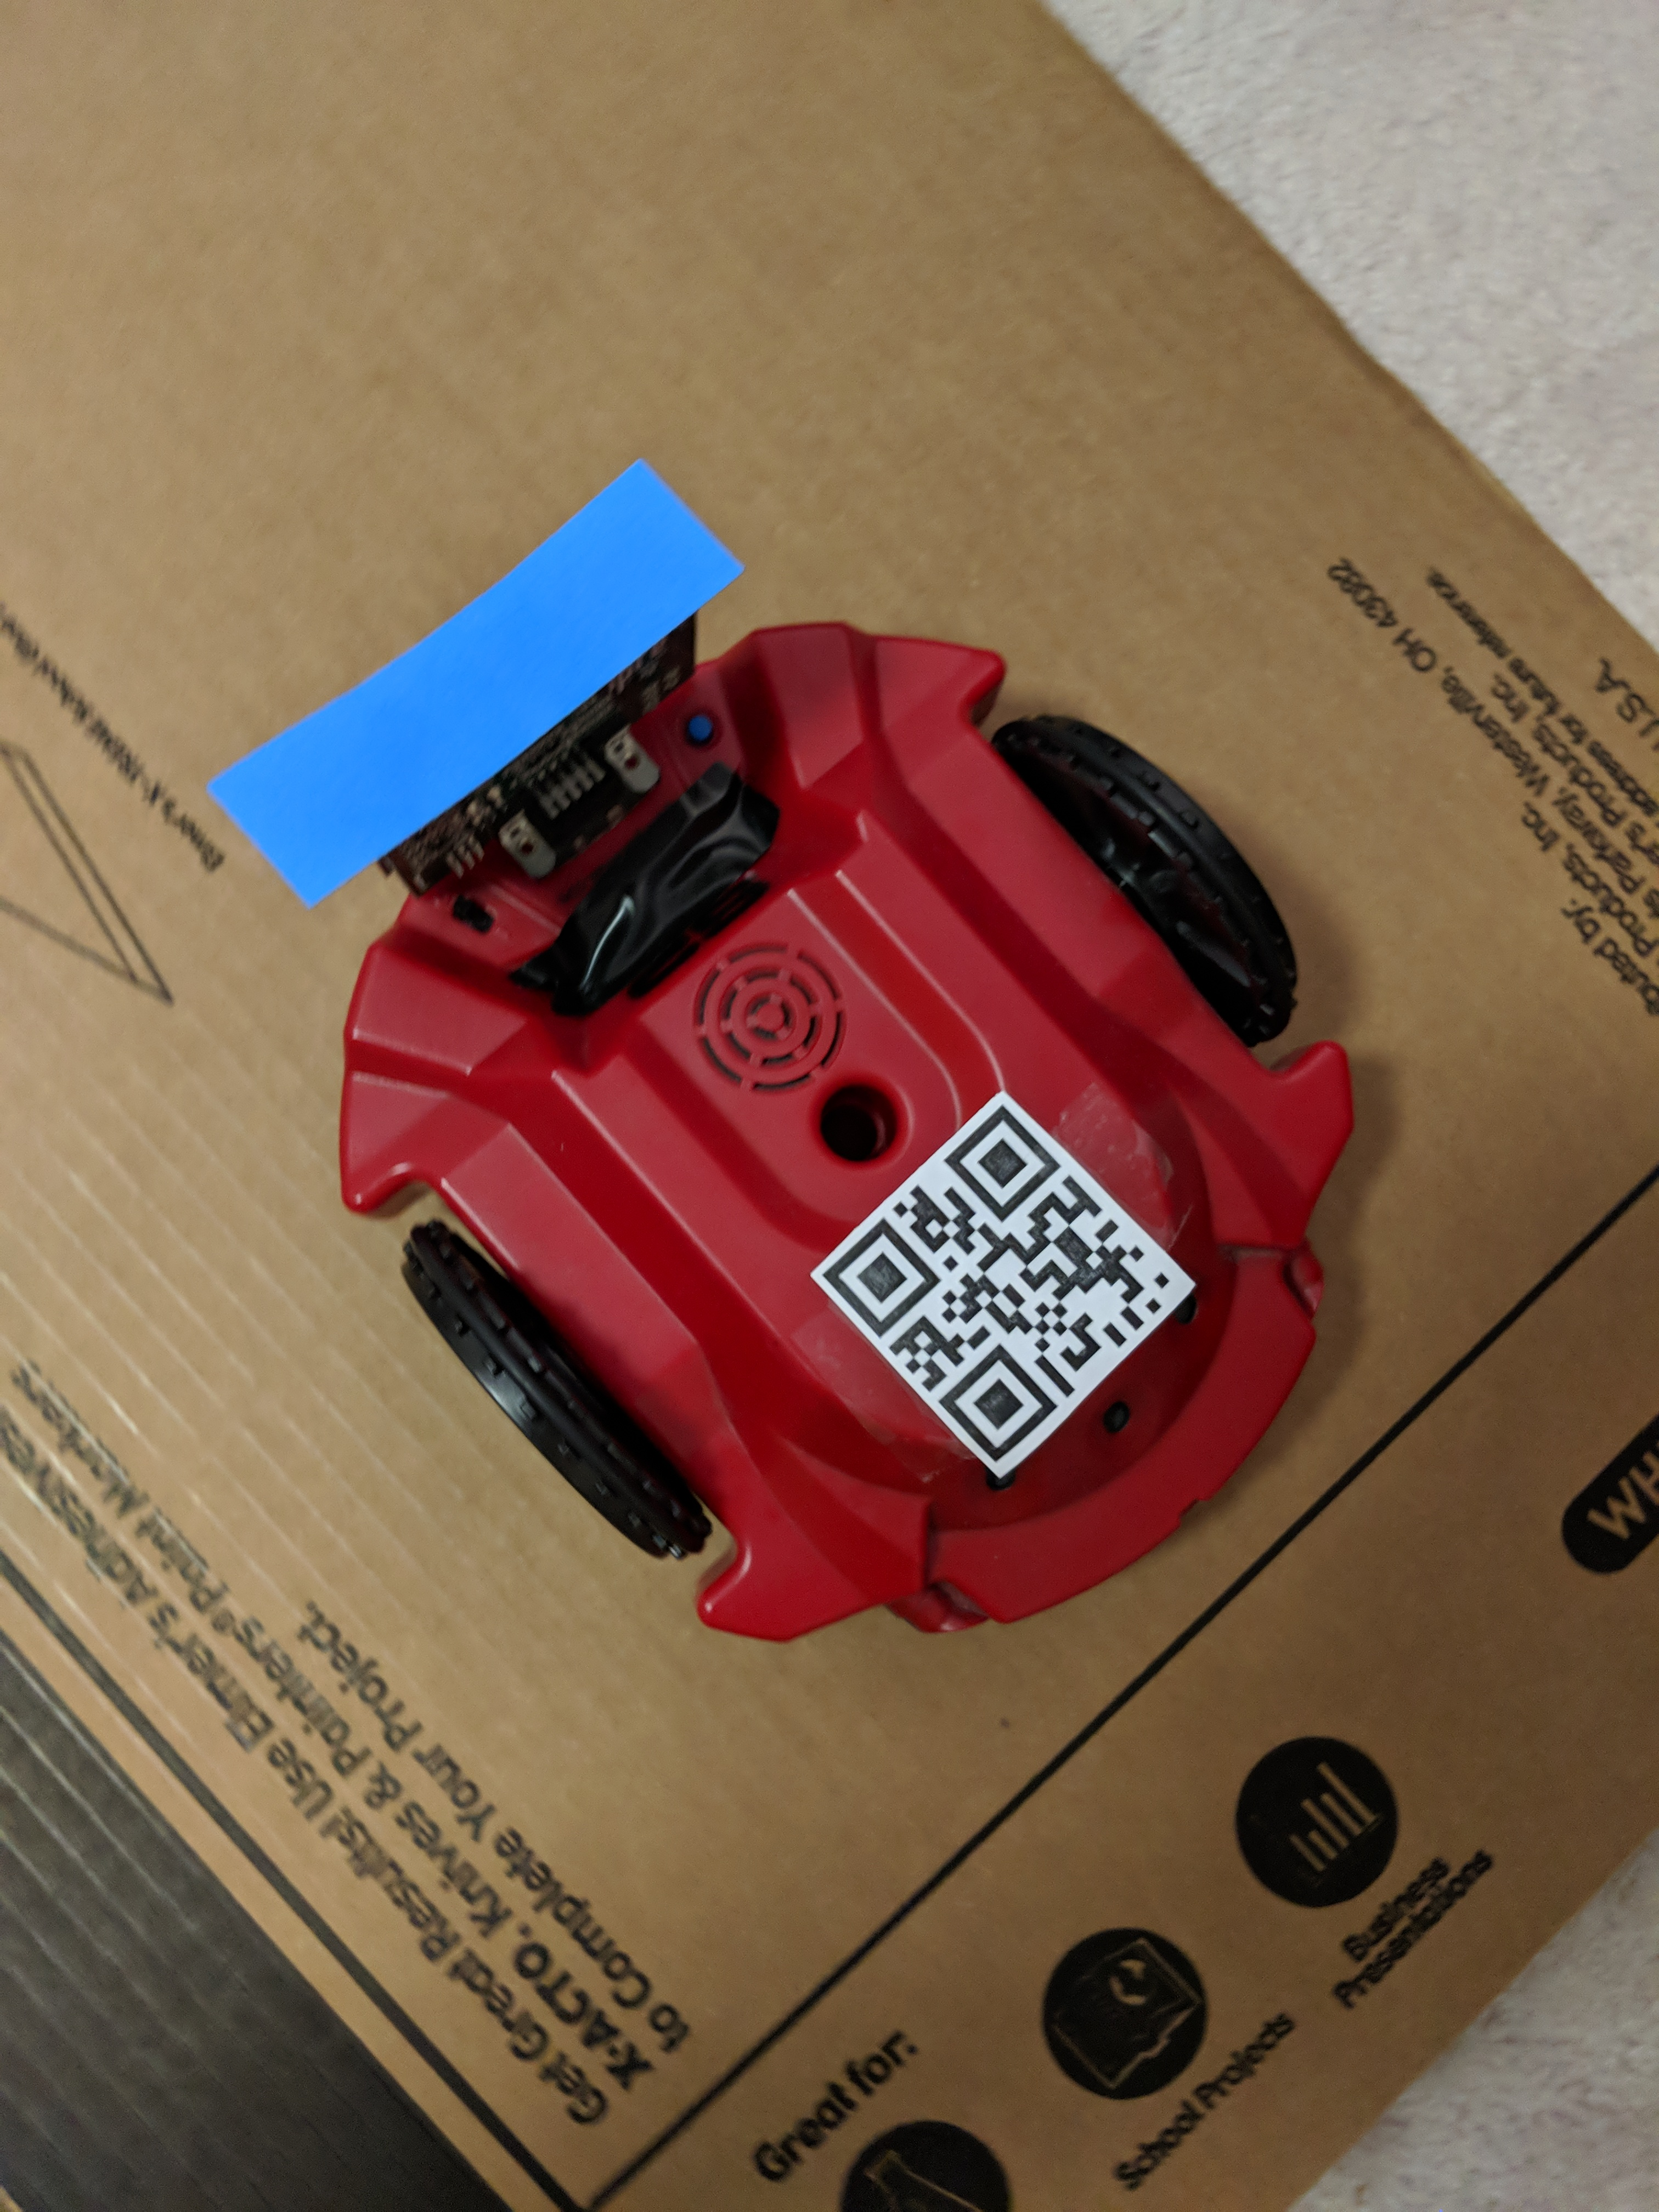chassis: (206, 420, 1368, 1656)
qr: (805, 1076, 1211, 1508)
